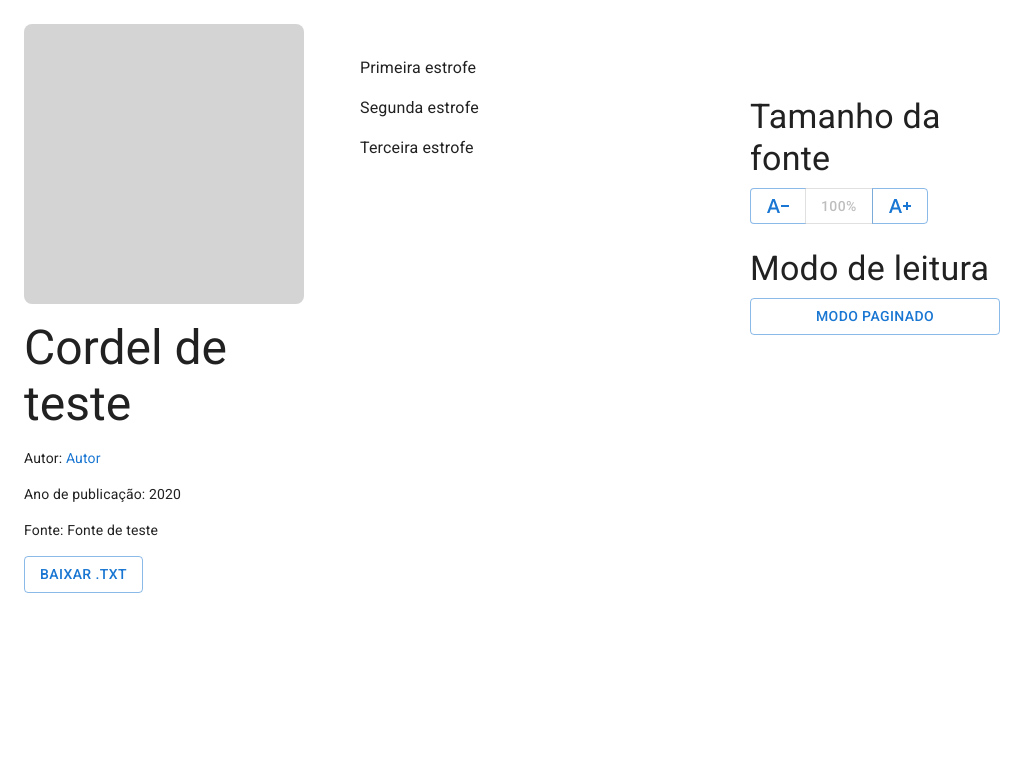
CordelViewer › shows full text by default and toggles to paginated mode
Check: the text "Página 1 / 2" is not shown
Check: the button "Anterior" is not shown
Click the button "Modo paginado".
click(875, 317)  # box [750,298,1000,335]
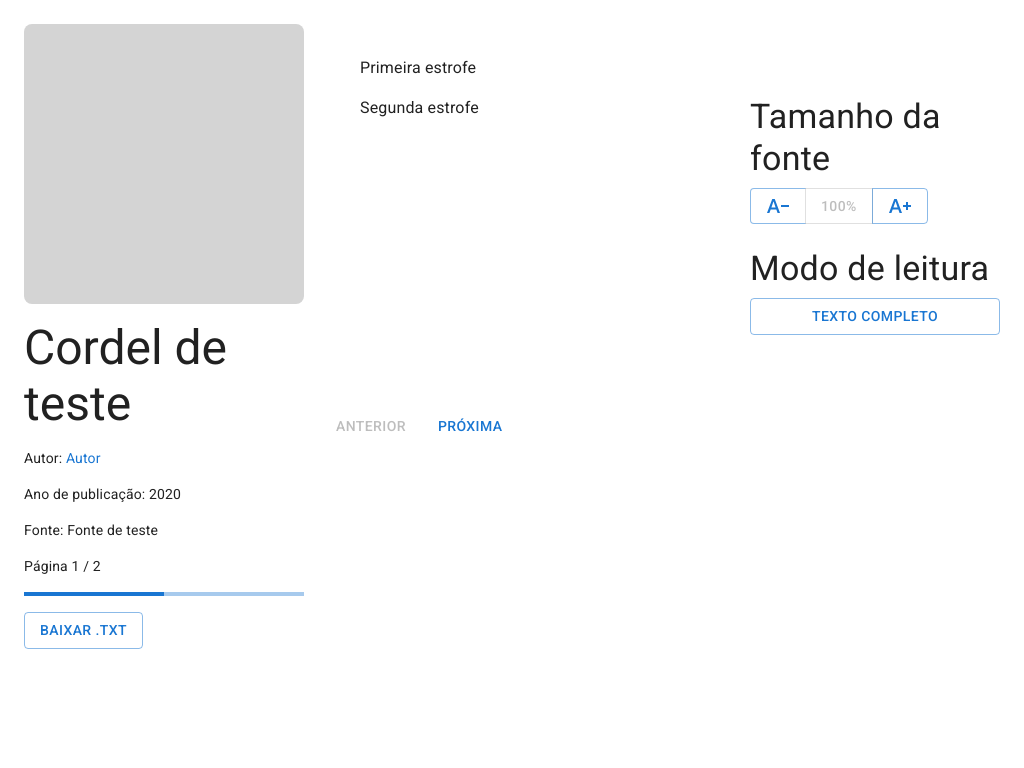
Check: the text "Página 1 / 2" is shown, box [24,558,101,574]
Check: the button "Anterior" is disabled, box [328,408,414,444]
Click the button "Próxima".
click(470, 426)  # box [430,408,510,444]
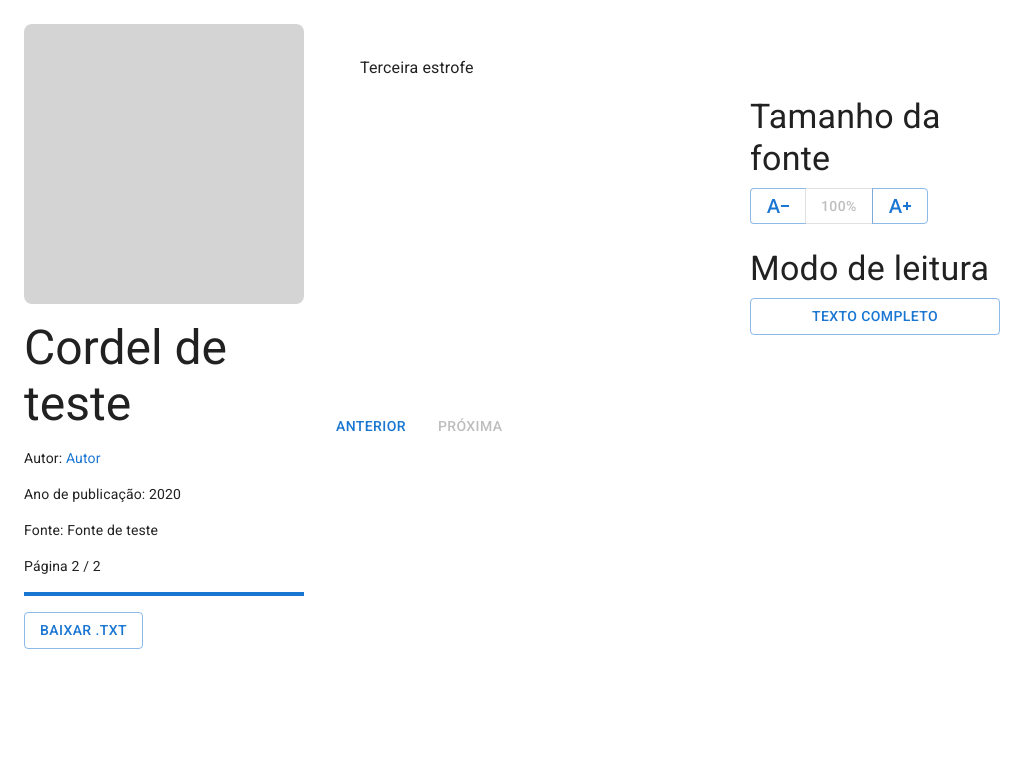
Check: the text "Página 2 / 2" is shown, box [24,558,101,574]
Check: the button "Próxima" is disabled, box [430,408,510,444]
